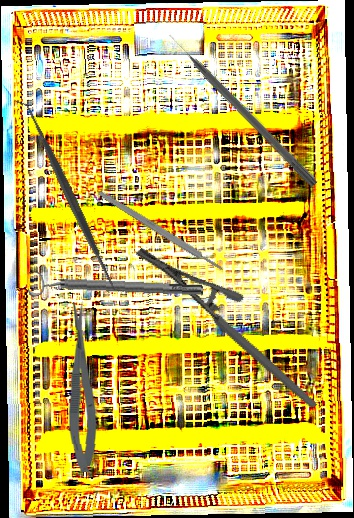Fixation Ring: (27, 268, 204, 306)
Micro Scissor: (67, 301, 98, 473)
Needle Holder: (135, 210, 317, 447)
Pusher: (166, 30, 320, 188)
Scalpel Handle: (96, 188, 225, 274)
Spatula Surgical: (12, 91, 127, 301)
